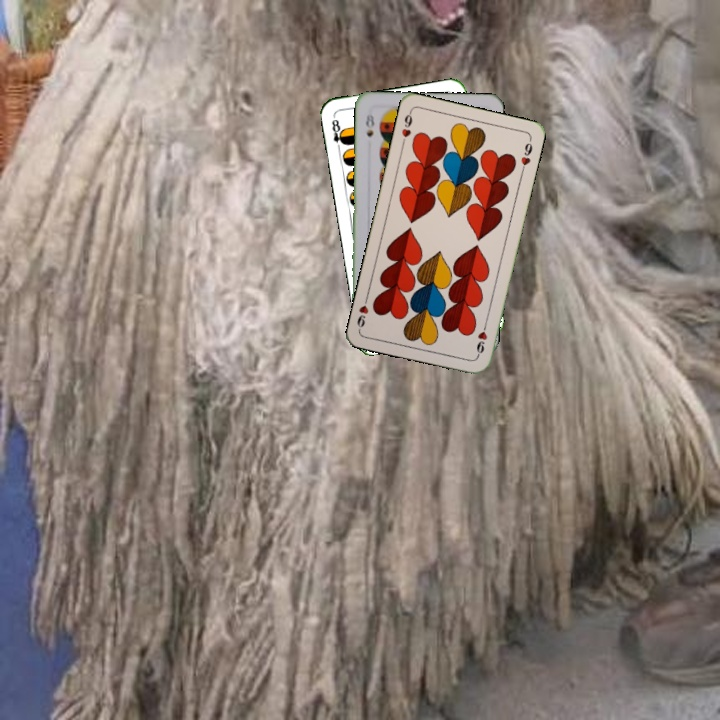E8: (328, 113, 348, 153)
H9: (398, 107, 415, 148), (473, 319, 490, 359)
S8: (362, 110, 377, 139)
